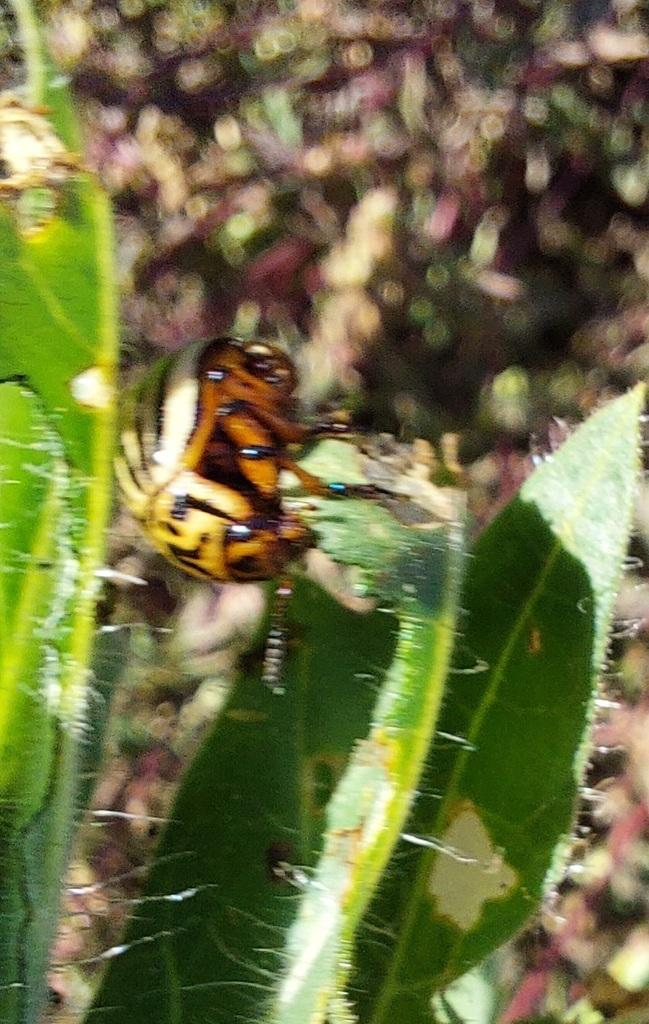potato_beetle: (82, 280, 401, 609)
